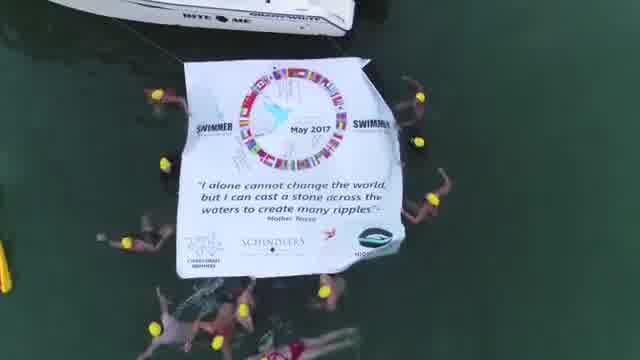swimmer: (130, 289, 204, 359), (248, 328, 362, 360), (400, 165, 452, 234), (188, 298, 238, 360), (94, 223, 175, 256), (388, 72, 428, 130), (140, 86, 196, 123), (308, 275, 354, 317), (236, 276, 262, 336)
